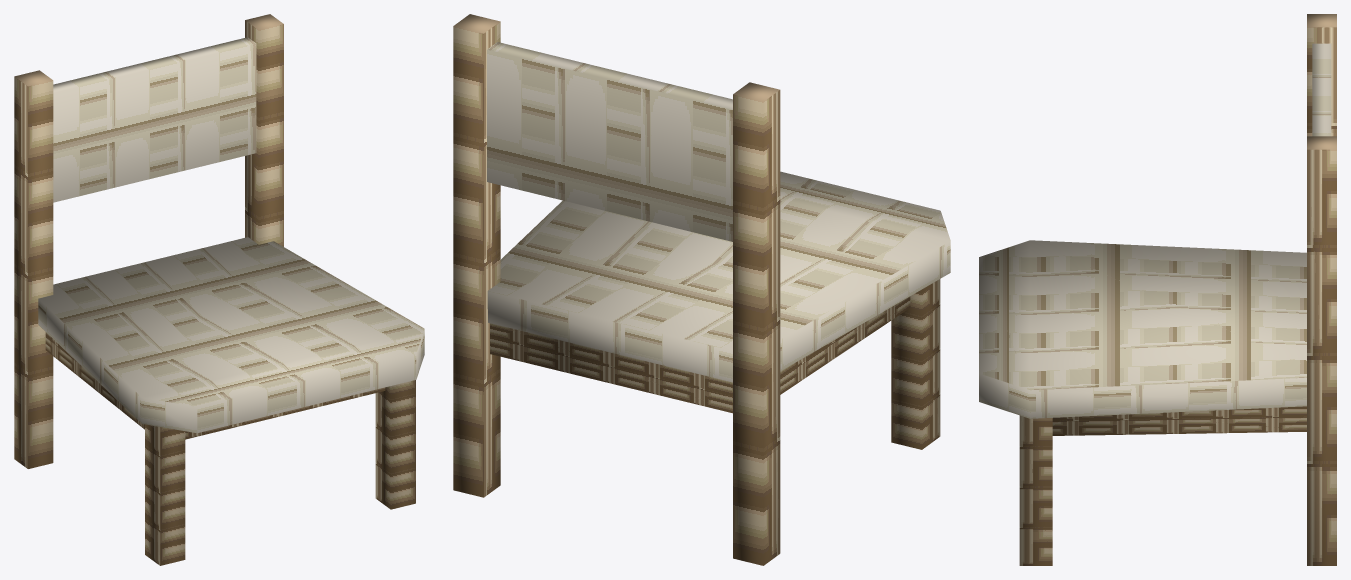
File: 3223IMSD01_09.gltf
3 views of the same model, side by side, from view 1: azimuth 30°, elevation 25°; view 2: azimuth 150°, elevation 25°; view 3: azimuth 270°, elevation 25° (orthographic). The views are drawn at different scales.
Parts seen in each view (by area): view 1: 3223IMSD01_09; view 2: 3223IMSD01_09; view 3: 3223IMSD01_09.
Part boxes in pixels (x1,y1,x2,y2): 3223IMSD01_09: [14, 14, 424, 565]; 3223IMSD01_09: [453, 14, 950, 565]; 3223IMSD01_09: [979, 14, 1336, 565].
Bounding box in the file's own units: 0.7739 × 1 × 0.7803.
Materials: 2 (2 with a texture image).
